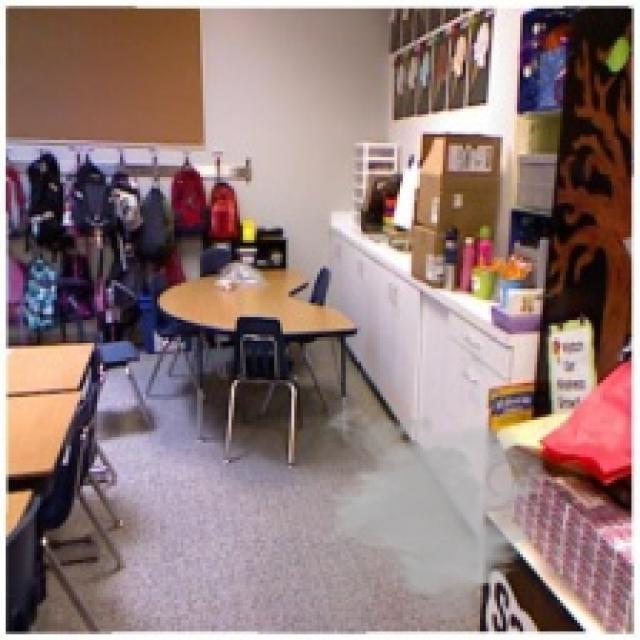Smoke: (299, 401, 552, 628)
